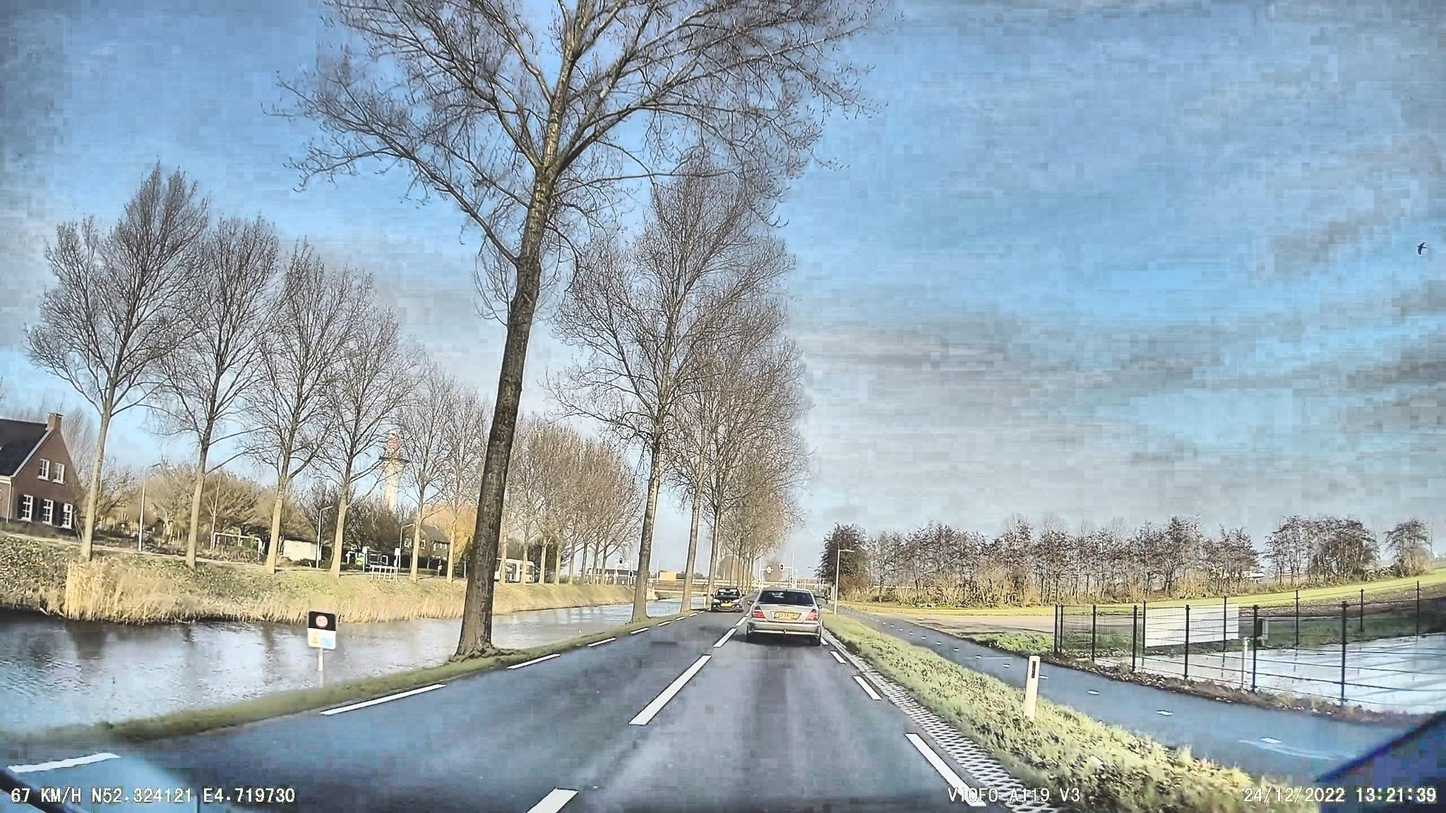Roads: (0, 614, 1066, 813)
